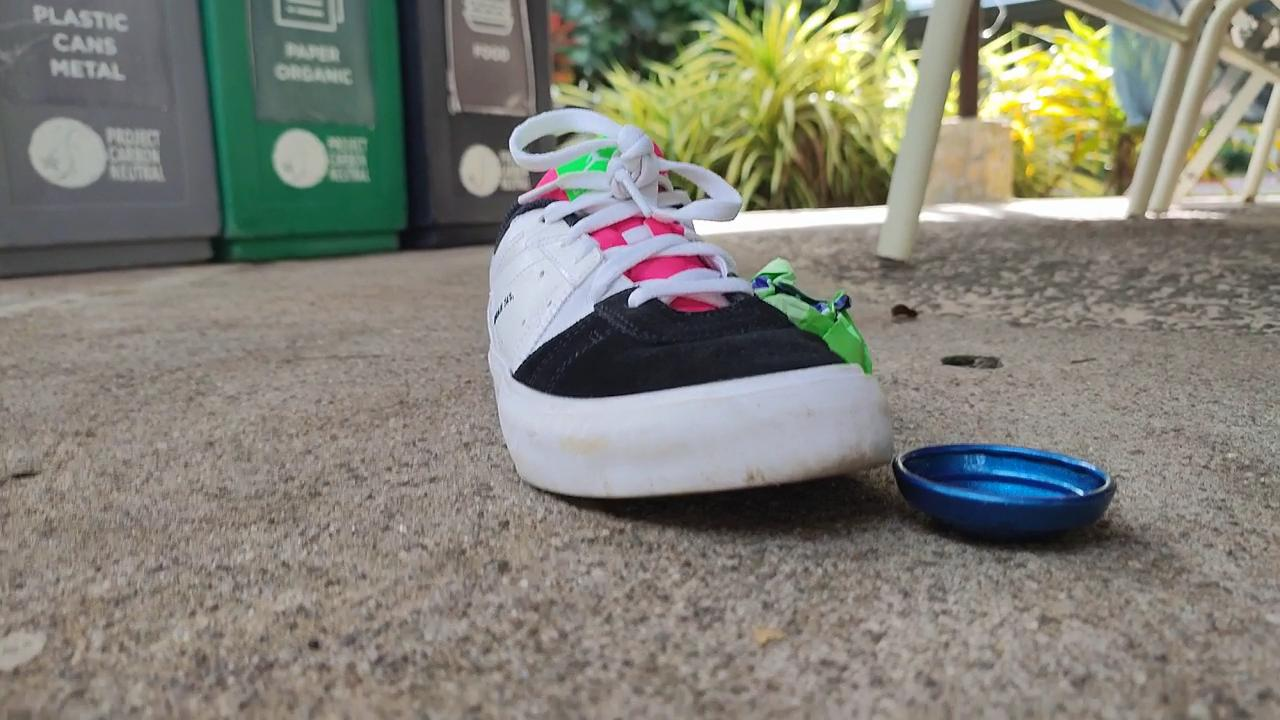Paper: (743, 247, 878, 382)
